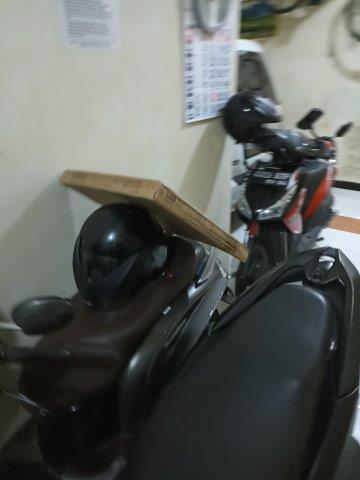kardus: (61, 171, 248, 261)
